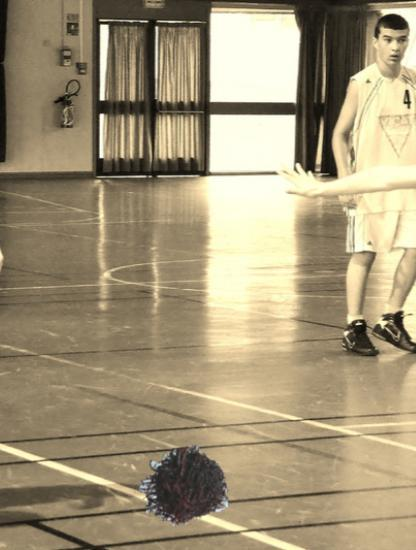Rambutan: (133, 439, 229, 535)
